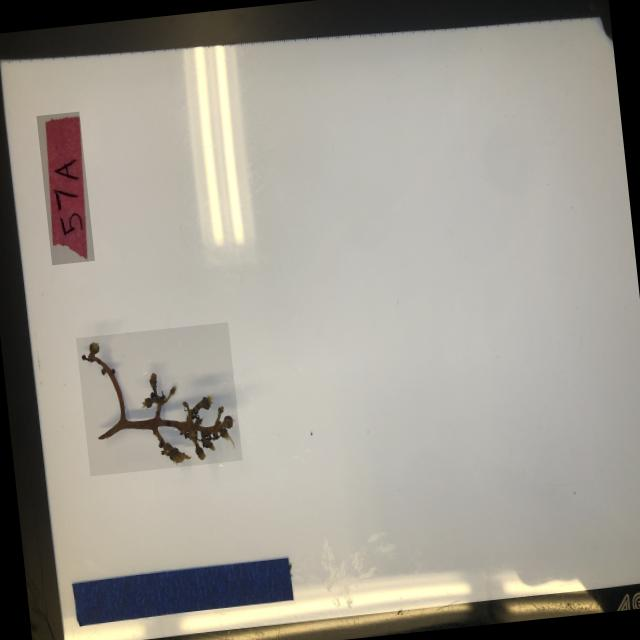index: (36, 110, 94, 264)
measure_label: (70, 553, 296, 626)
rachis_cluster: (75, 321, 242, 475)
